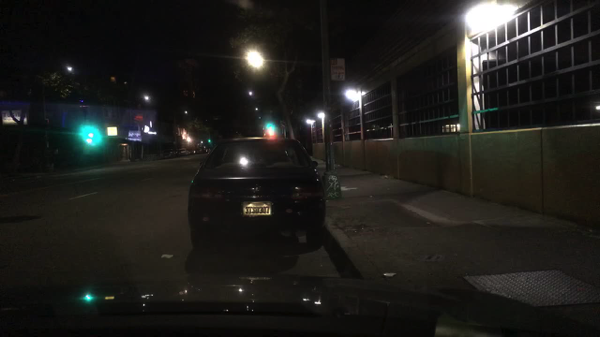car: (187, 136, 327, 251), (163, 147, 177, 155), (179, 149, 189, 155), (194, 149, 202, 154), (188, 149, 196, 154), (203, 149, 209, 154)
traffic sign: (330, 58, 345, 82)
